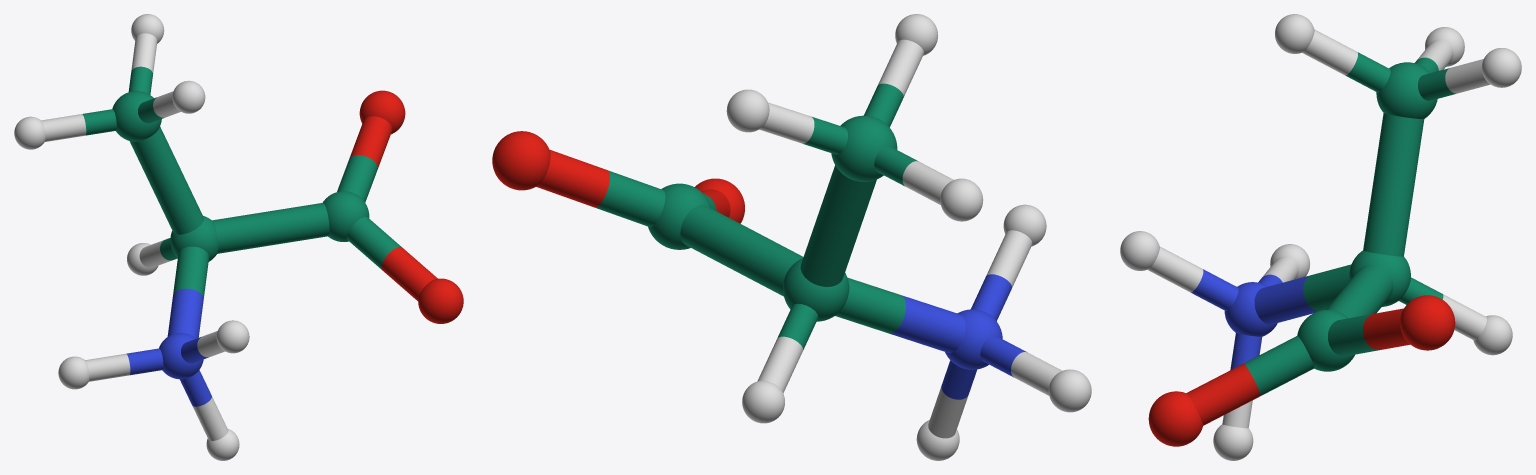
Rendered from ALA.PDB.glb.
3 renders of one model, left to right at view 1: azimuth 30°, elevation 25°; view 2: azimuth 150°, elevation 25°; view 3: azimuth 270°, elevation 25°, orthographic. The views are drawn at different scales.
Size of the model in its own units: 4.6 by 3.98 by 3.31.
